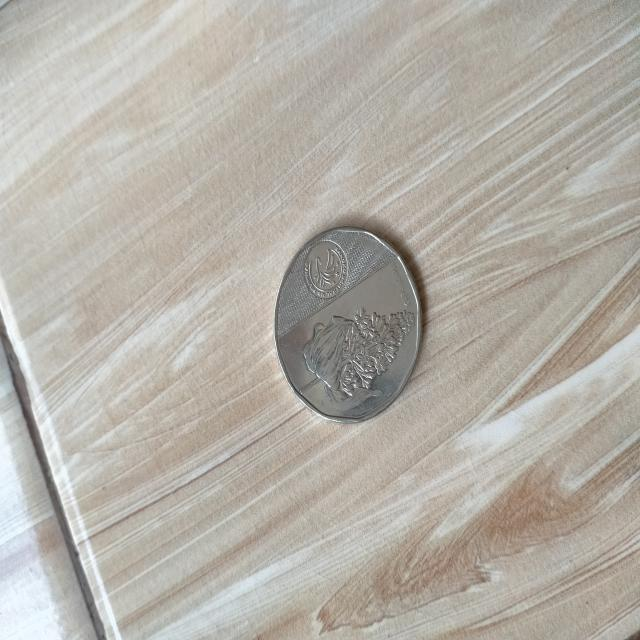10_New_Back: (294, 302, 421, 423)
